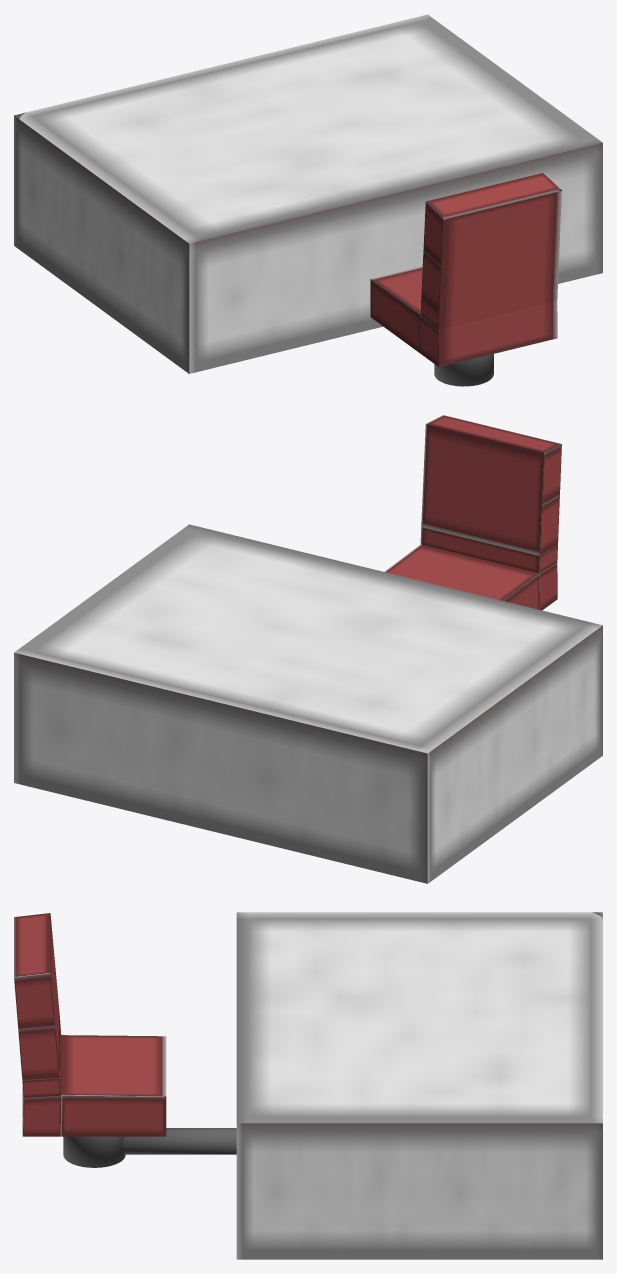
The model's file is Mining_Drone_Station.fbx.
3 renders of one model, top to bottom at view 1: azimuth 30°, elevation 25°; view 2: azimuth 150°, elevation 25°; view 3: azimuth 270°, elevation 25°, orthographic. The views are drawn at different scales.
Parts seen in each view (by area): view 1: Cylinder.001; view 2: Cylinder.001; view 3: Cylinder.001.
Boxes of the visible parts, left/top/right/bottom form: Cylinder.001: left=14, top=14, right=602, bottom=386; Cylinder.001: left=14, top=415, right=602, bottom=883; Cylinder.001: left=14, top=912, right=602, bottom=1259.
Size of the model in its own units: 241 by 113 by 284.
